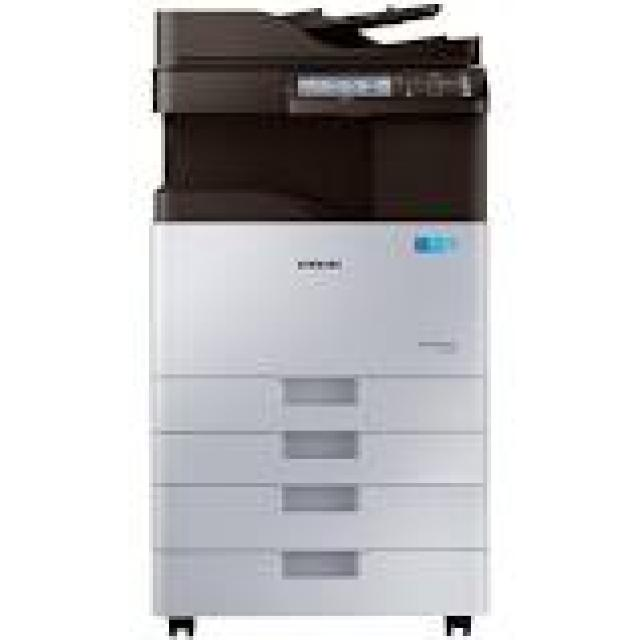printer: (137, 4, 506, 640)
